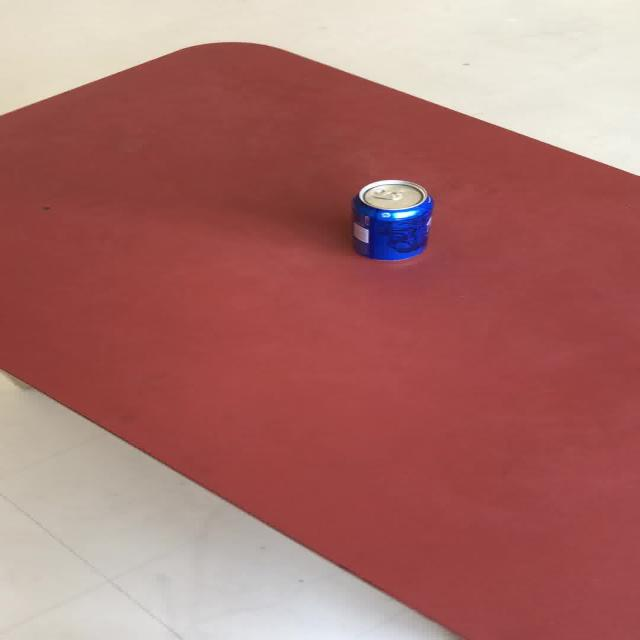tonic: (349, 178, 433, 261)
